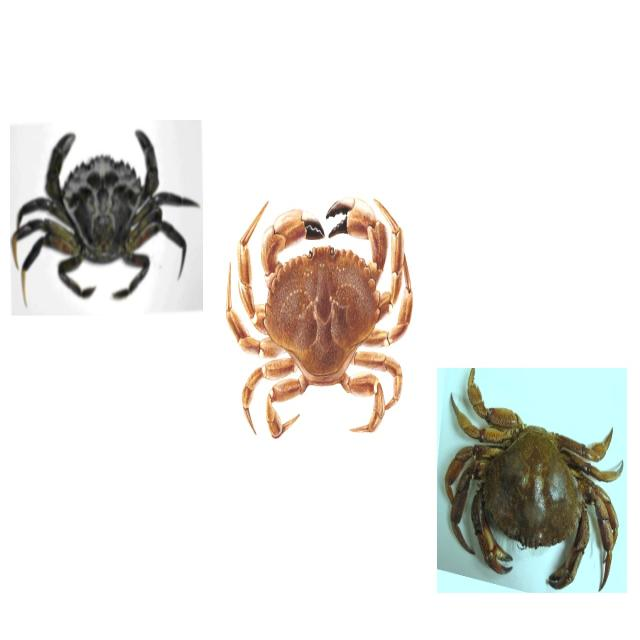egc: (11, 122, 203, 318)
jonah_crab: (225, 196, 412, 433)
rock_crab: (439, 368, 623, 593)
